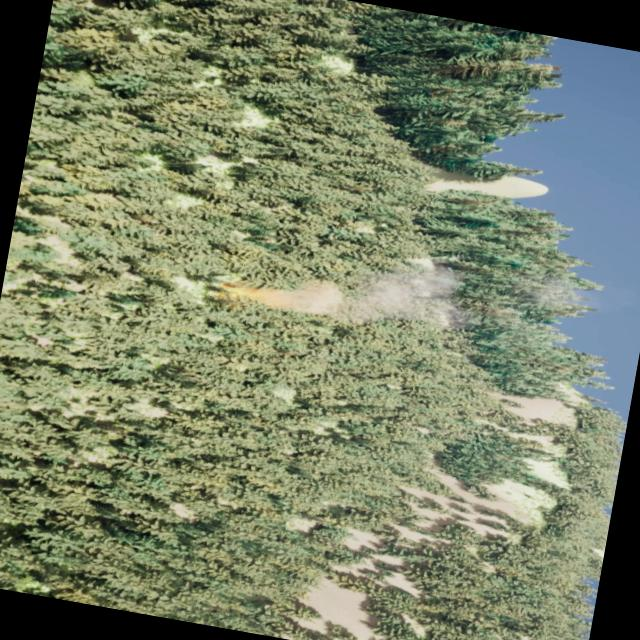fire: (214, 274, 266, 308)
smoke: (223, 230, 477, 348)
